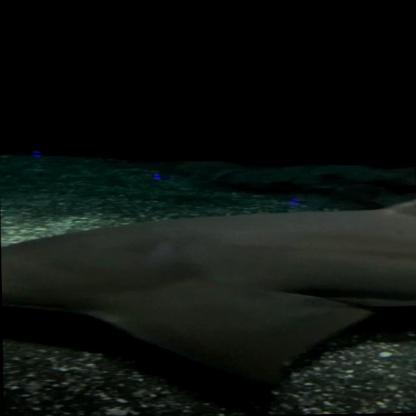shark: (1, 194, 415, 398)
